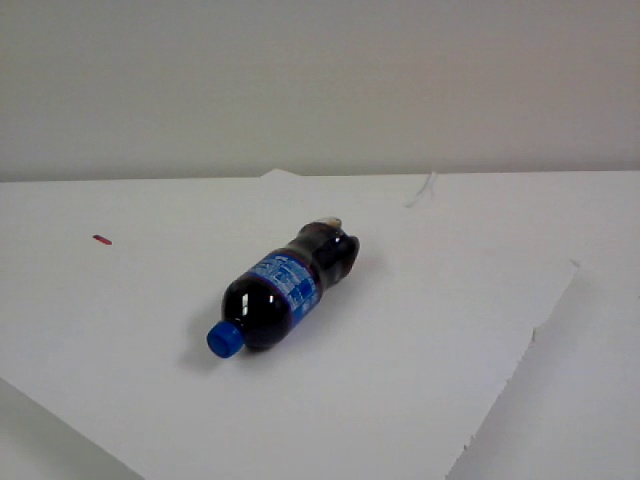botolplastik: (205, 217, 362, 359)
